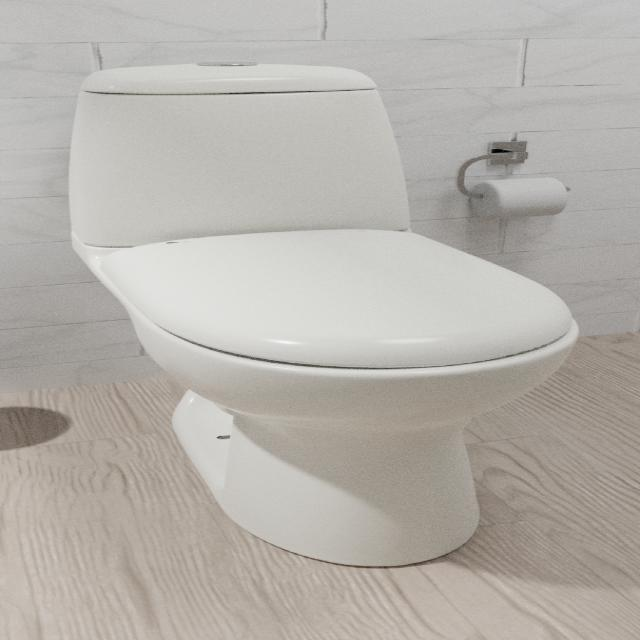toilet: (66, 61, 579, 568)
